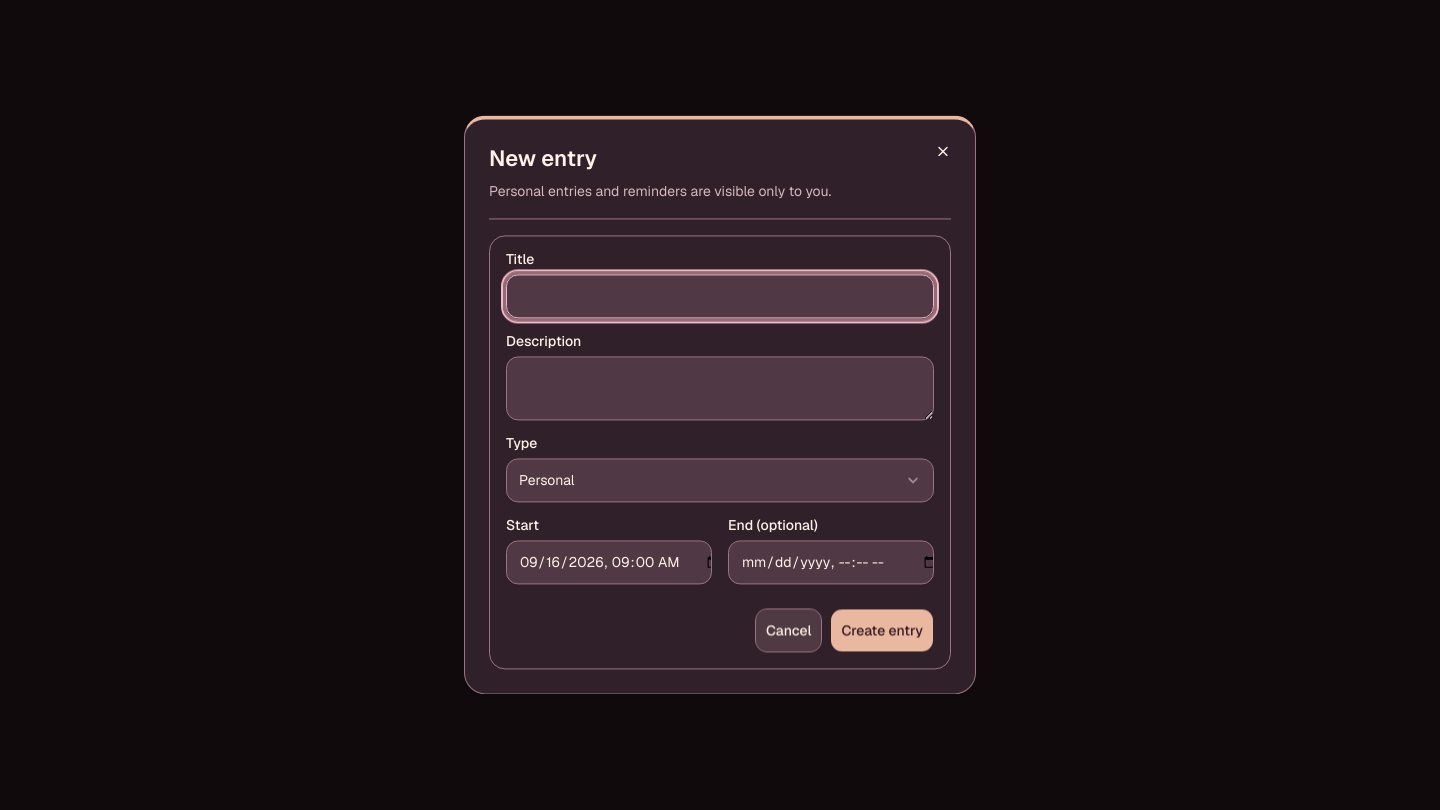
Test: EntryDialog › requires a title before submitting
What coordinates should you click on to do the following:
click the button "Create entry"
I would click on:
 (882, 631)
Its box is 830,609 -> 934,653.
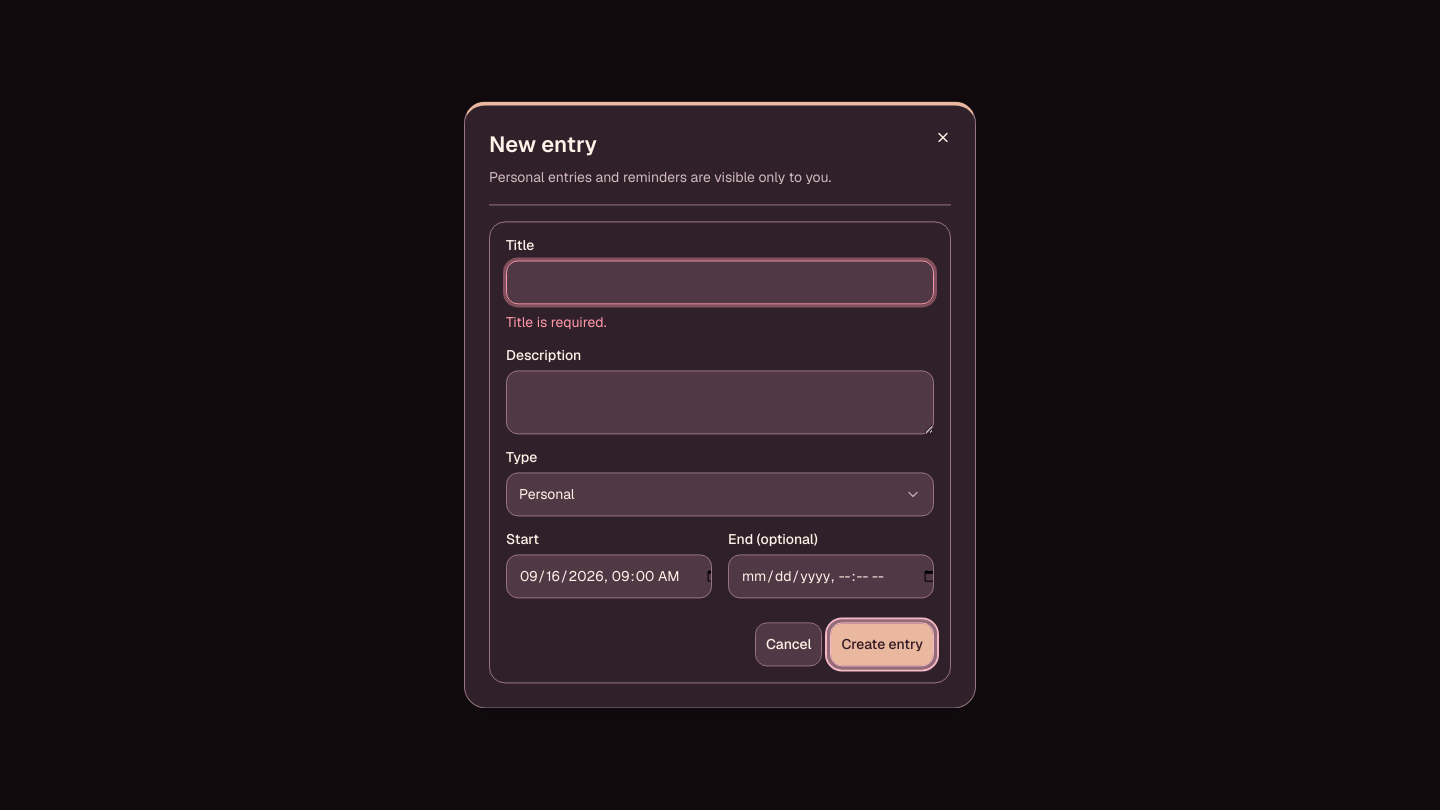
Expected: the text "Title is required." is shown, 506,314 -> 606,332
